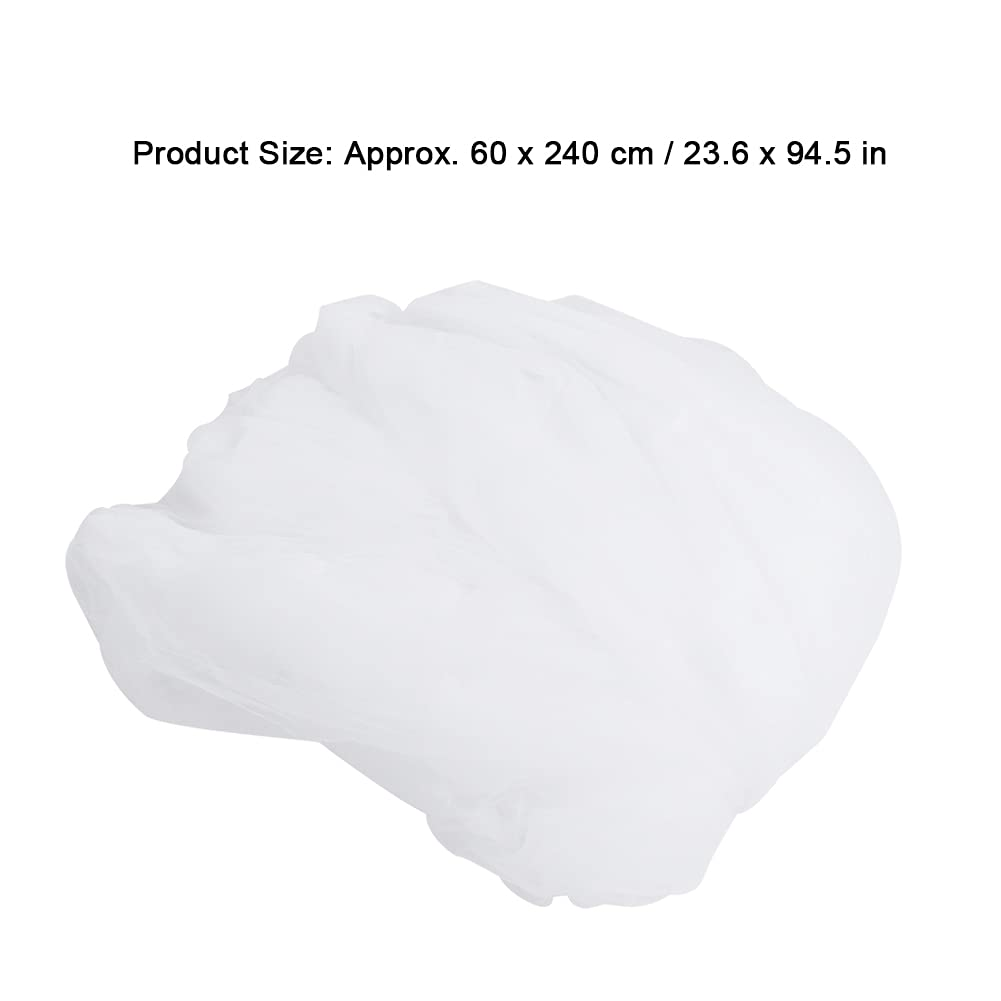/: (664, 141, 673, 164)
23.6: (684, 141, 748, 164)
240: (545, 141, 598, 164)
60: (471, 141, 506, 164)
94.5: (788, 141, 850, 164)
Approx.: (344, 141, 457, 170)
Product: (135, 141, 248, 164)
Size:: (260, 141, 331, 164)
cm: (611, 147, 652, 164)
in: (863, 141, 885, 164)
x: (518, 147, 533, 164), (760, 147, 775, 164)
